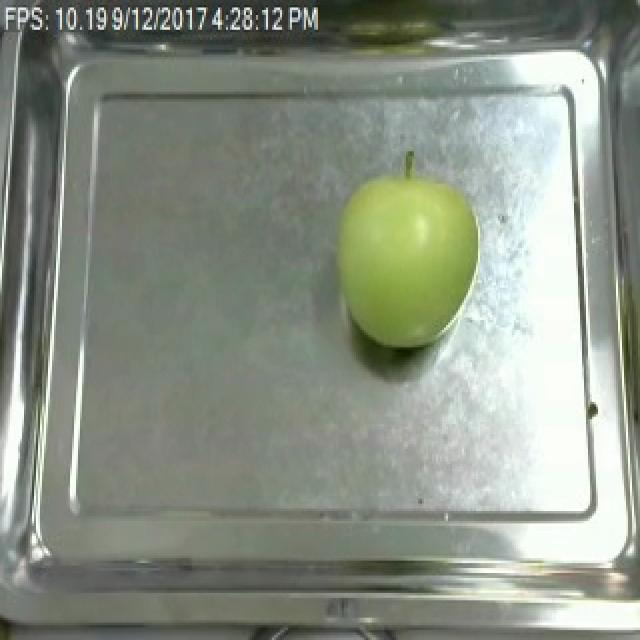50-_ripeness: (316, 120, 502, 394)
